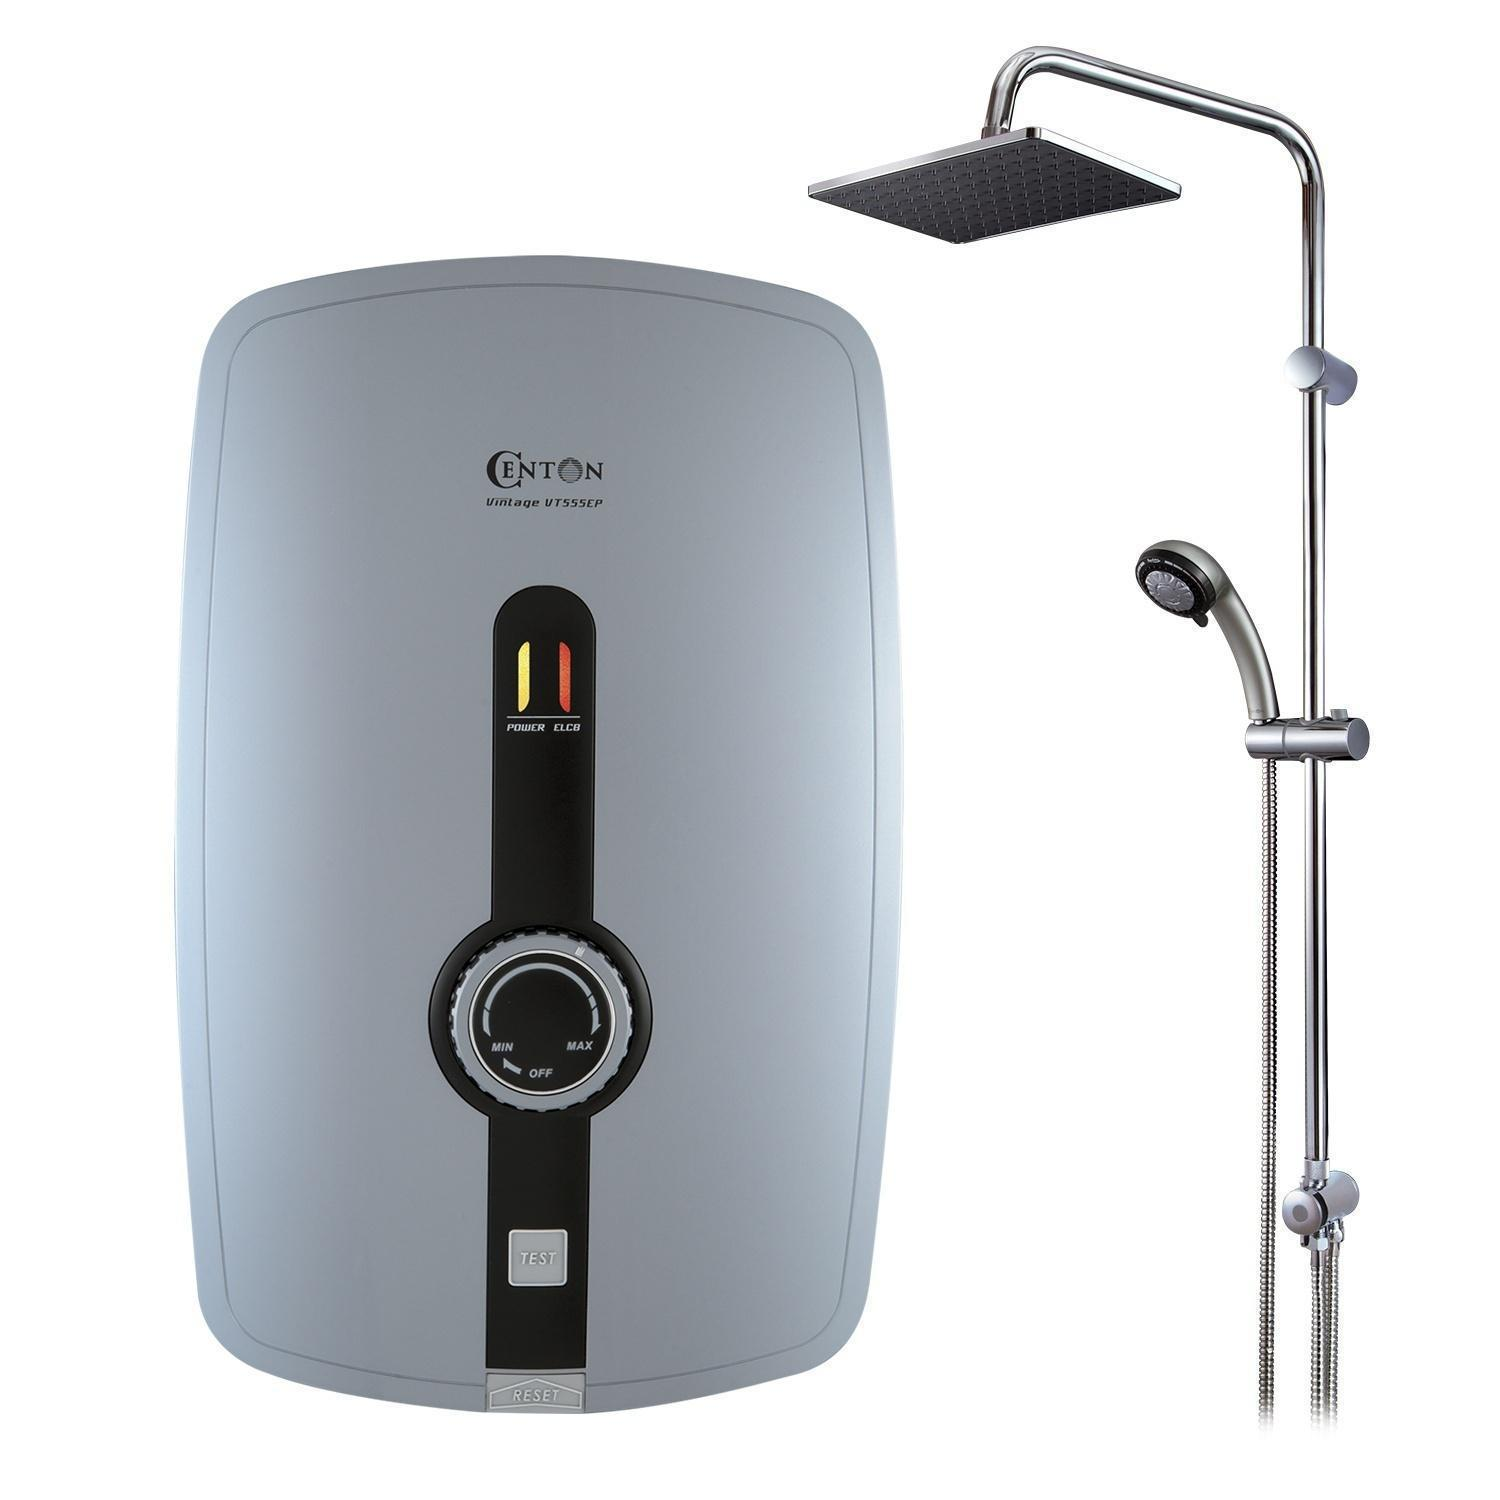Ducha: (109, 16, 1499, 1499)
